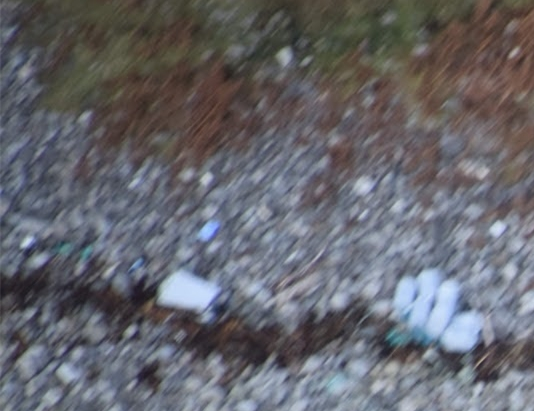scattered_barrel: (15, 213, 233, 327)
white_in_green: (340, 215, 529, 410)
